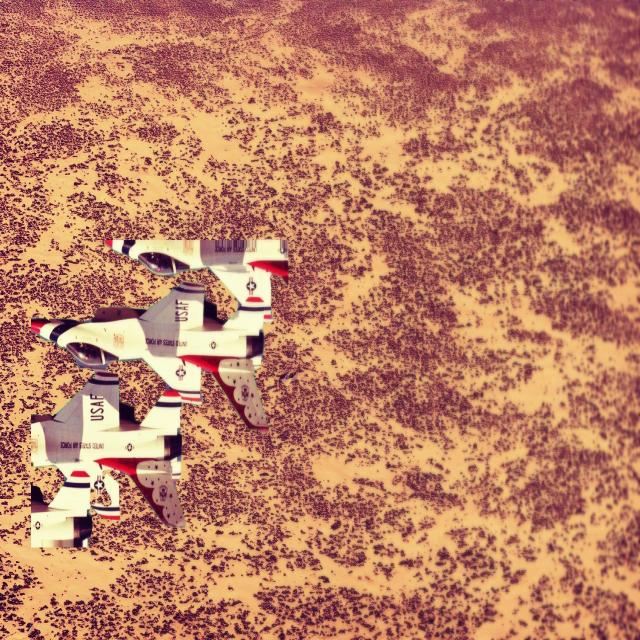airplane: (29, 280, 270, 431), (30, 370, 186, 550), (104, 235, 289, 326)
